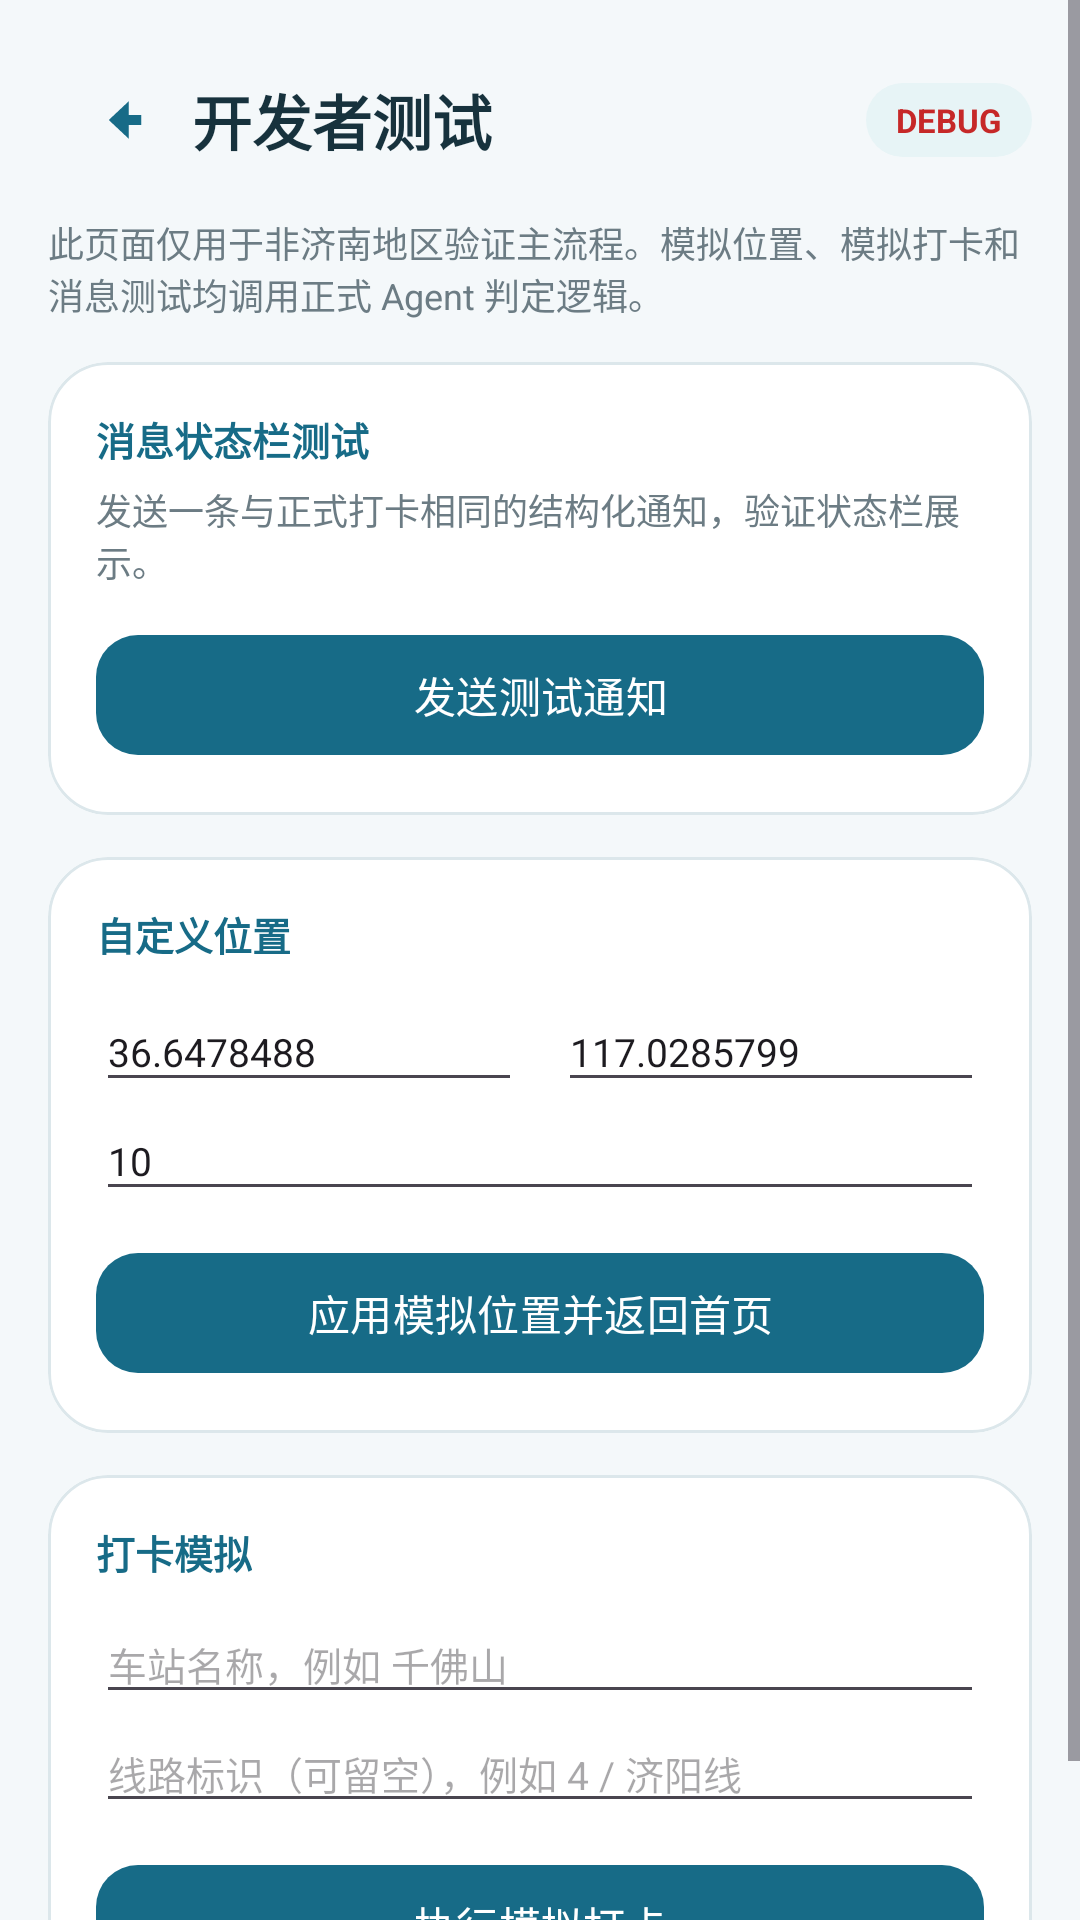

Screen size 1080px×1920px. Icon name, then its box in pixels as (x1, y1, x2, y2):
返回: (109, 101, 142, 139)
